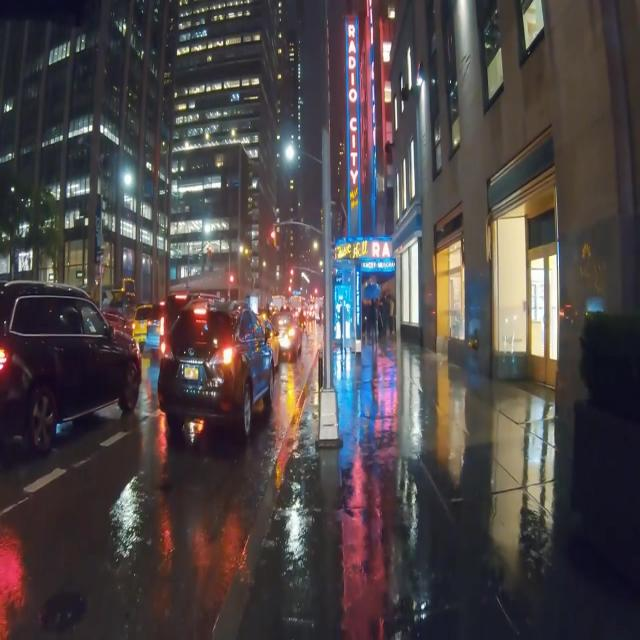Car: (1, 279, 141, 453), (154, 291, 275, 434)
